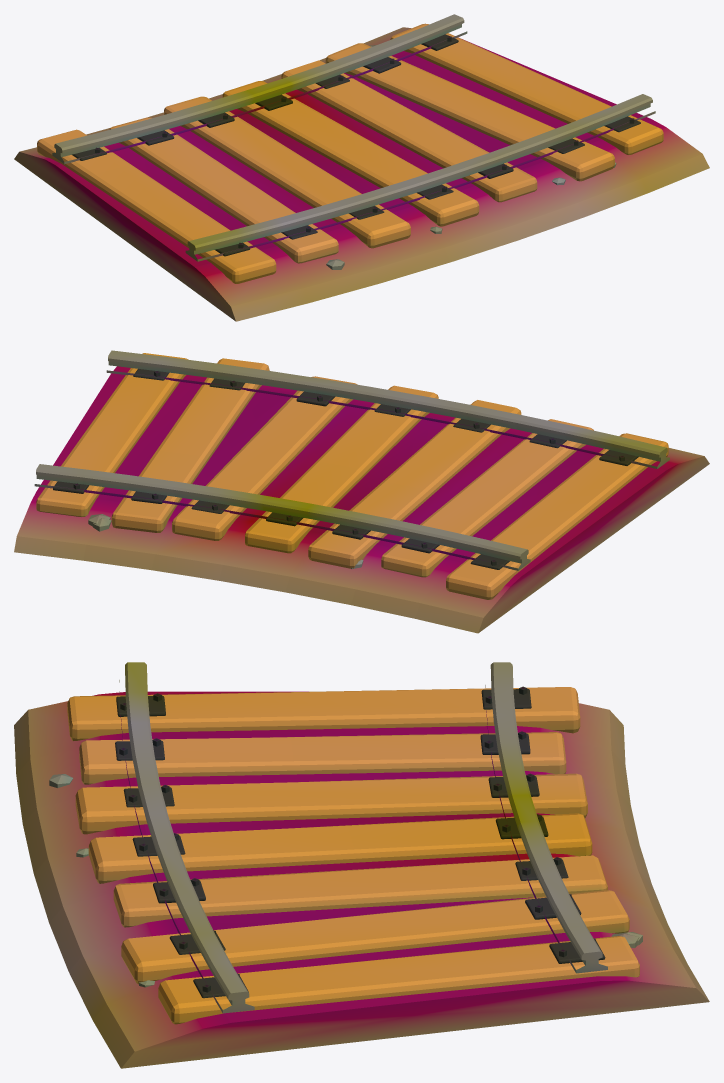
File: Track_Curve_R20_15_B.glb
The picture shows the model from 3 angles, top to bottom: view 1: azimuth 30°, elevation 25°; view 2: azimuth 150°, elevation 25°; view 3: azimuth 270°, elevation 25°; orthographic projection. The views are drawn at different scales.
Visible parts, largest first — view 1: Track_Curve_R20_15_B; view 2: Track_Curve_R20_15_B; view 3: Track_Curve_R20_15_B.
Boxes of the visible parts, x1,y1,x2,y2 form: Track_Curve_R20_15_B: [14, 14, 709, 321]; Track_Curve_R20_15_B: [14, 350, 709, 633]; Track_Curve_R20_15_B: [14, 662, 709, 1068].
Size of the model in its own units: 5.73 by 0.49 by 4.91.
